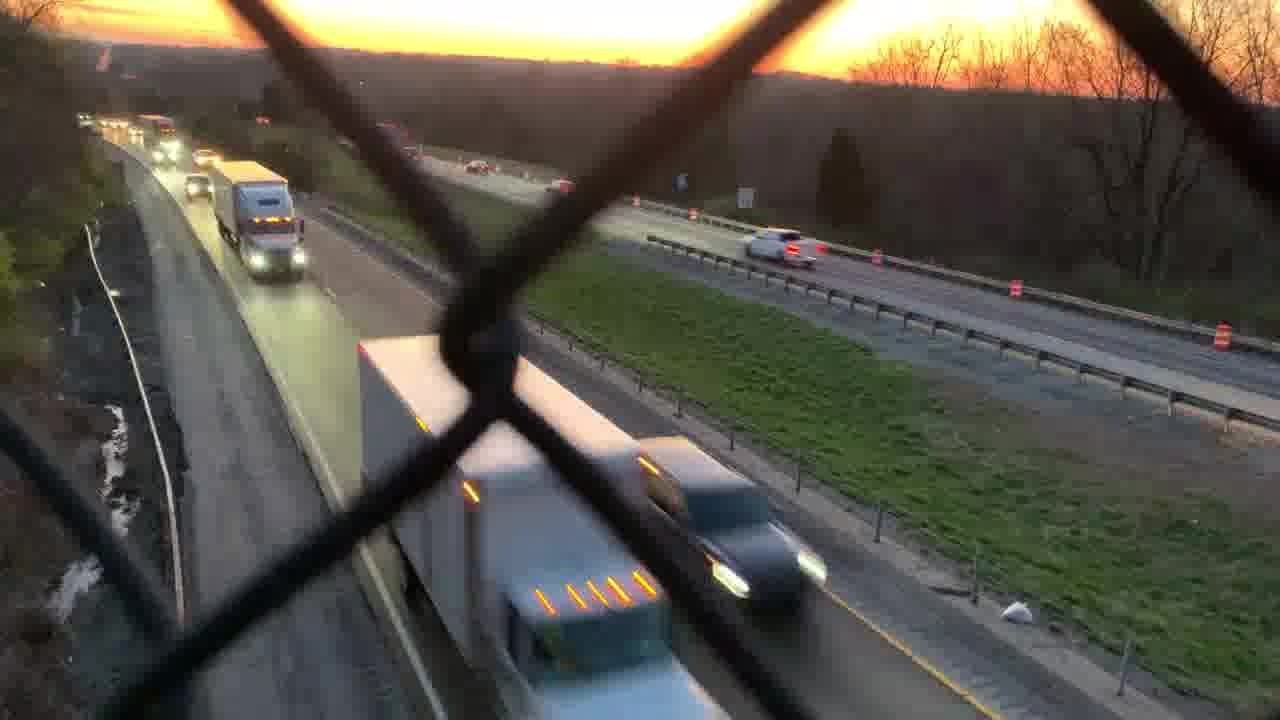heavyTruck: (341, 328, 746, 720), (209, 157, 307, 285)
largeCar: (636, 433, 834, 608)
lightTruck: (744, 232, 824, 272)
